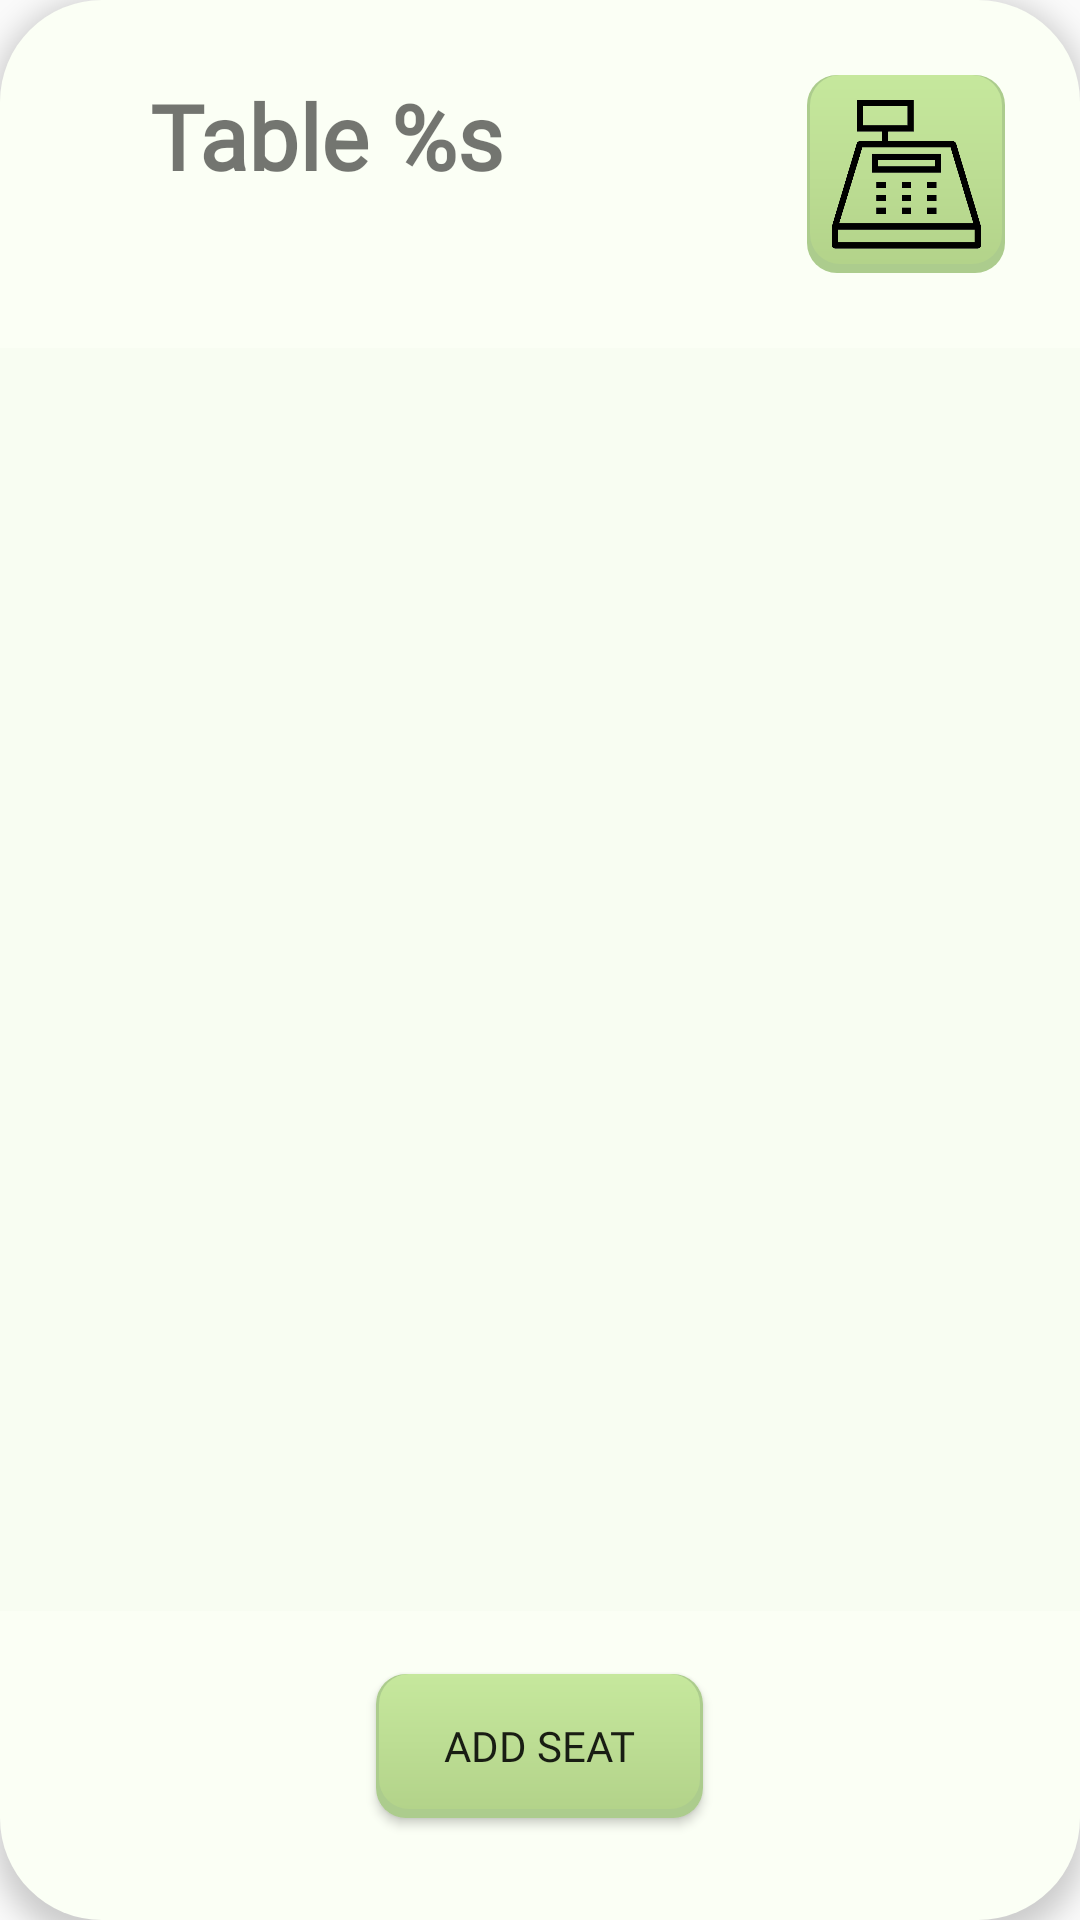

Point at icon controls on the screen. Image size 1080x1920, points as (x,y).
sendallbill: (906,174)
